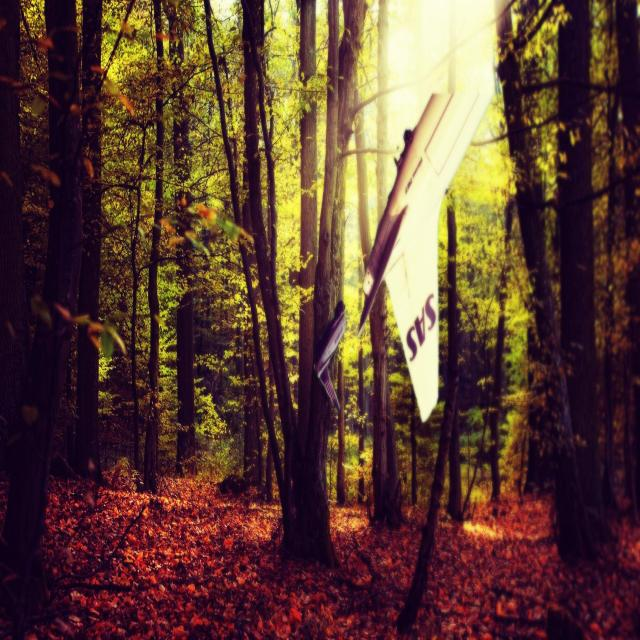airplane: (358, 89, 492, 424), (312, 298, 344, 416)
